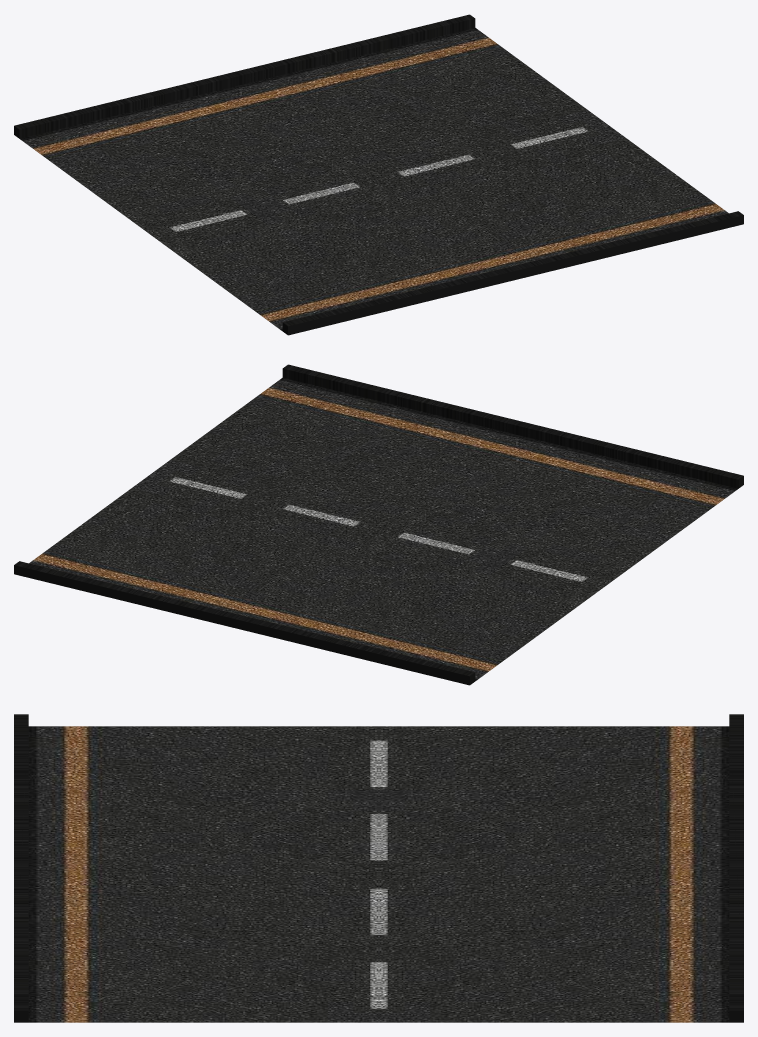
The model's file is road.glb.
3 views of the same model, one above another, from view 1: azimuth 30°, elevation 25°; view 2: azimuth 150°, elevation 25°; view 3: azimuth 270°, elevation 25° (orthographic). The views are drawn at different scales.
Visible parts, largest first — view 1: Plane; view 2: Plane; view 3: Plane.
Boxes of the visible parts, x1,y1,x2,y2 form: Plane: [14, 14, 743, 335]; Plane: [14, 364, 743, 685]; Plane: [14, 714, 743, 1022].
Size of the model in its own units: 2 by 0.0383 by 2.08.
Materials: 1 (1 with a texture image).
